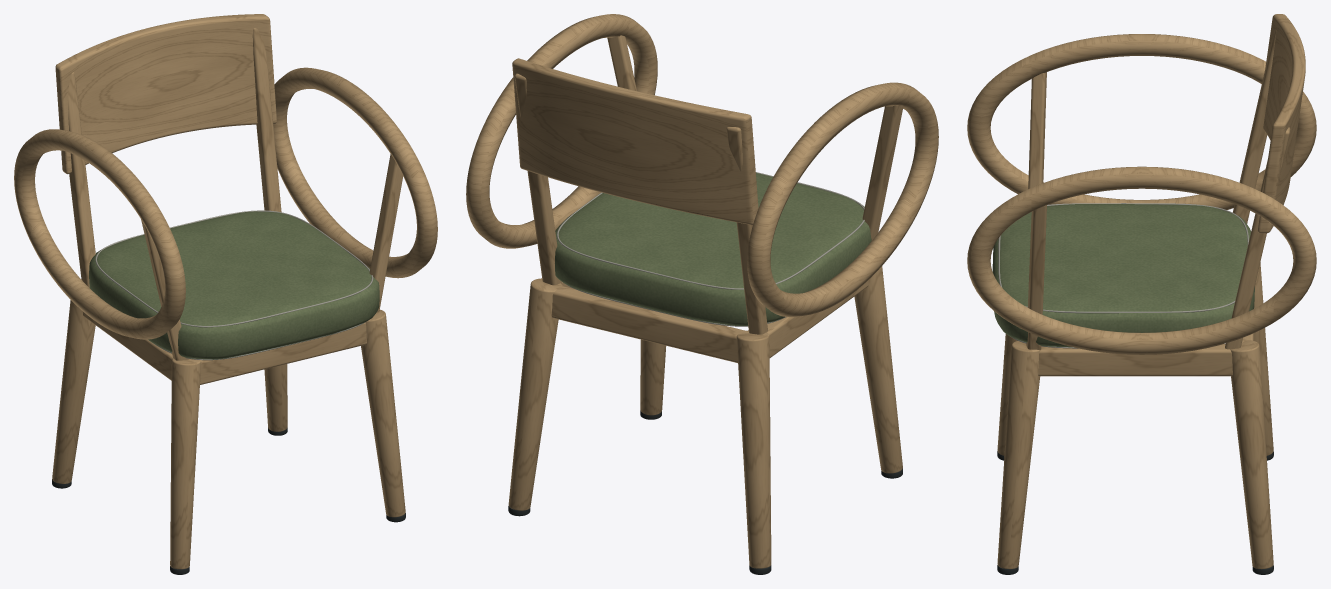
3 renders of one model, left to right at view 1: azimuth 30°, elevation 25°; view 2: azimuth 150°, elevation 25°; view 3: azimuth 270°, elevation 25°, orthographic. The views are drawn at different scales.
Parts seen in each view (by area): view 1: Moss | fitted dining pad, Ash | broad curved back, Ash | closed elliptical loop arm, Ash | closed elliptical loop arm.001, Frame | tapered leg, Frame | tapered leg.002, Frame | tapered leg.001, Frame | cross apron, Ash | rear arm and back bracket.001, Ash | rear arm and back bracket, Ash | front arm bracket.001, Frame | tapered leg.003 (+3 smaller); view 2: Moss | fitted dining pad, Ash | broad curved back, Ash | closed elliptical loop arm, Ash | closed elliptical loop arm.001, Frame | tapered leg.001, Frame | cross apron.001, Frame | tapered leg.003, Frame | tapered leg, Ash | rear arm and back bracket.001, Ash | front arm bracket, Ash | rear arm and back bracket, Frame | tapered leg.002 (+3 smaller); view 3: Moss | fitted dining pad, Ash | closed elliptical loop arm.001, Ash | closed elliptical loop arm, Frame | tapered leg.003, Frame | tapered leg.002, Ash | broad curved back, Frame | side apron.001, Ash | rear arm and back bracket, Ash | rear arm and back bracket.001, Ash | front arm bracket.001, Ash | front arm bracket, Frame | tapered leg.001 (+2 smaller).
Part boxes in pixels (<box>): Moss | fitted dining pad: <box>89,211,379,359</box>; Ash | broad curved back: <box>55,14,276,174</box>; Ash | closed elliptical loop arm: <box>14,129,185,339</box>; Ash | closed elliptical loop arm.001: <box>273,67,437,278</box>; Frame | tapered leg: <box>170,358,201,569</box>; Frame | tapered leg.002: <box>361,309,405,517</box>; Frame | tapered leg.001: <box>52,300,95,483</box>; Frame | cross apron: <box>200,322,366,384</box>; Ash | rear arm and back bracket.001: <box>252,28,281,212</box>; Ash | rear arm and back bracket: <box>68,72,95,287</box>; Ash | front arm bracket.001: <box>369,154,403,312</box>; Frame | tapered leg.003: <box>264,364,287,431</box>; Moss | fitted dining pad: <box>555,173,871,325</box>; Ash | broad curved back: <box>512,58,758,224</box>; Ash | closed elliptical loop arm: <box>747,82,938,317</box>; Ash | closed elliptical loop arm.001: <box>466,14,657,248</box>; Frame | tapered leg.001: <box>736,330,771,568</box>; Frame | cross apron.001: <box>551,284,748,362</box>; Frame | tapered leg.003: <box>508,278,562,510</box>; Frame | tapered leg: <box>854,266,902,473</box>; Ash | rear arm and back bracket.001: <box>514,73,562,285</box>; Ash | front arm bracket: <box>862,105,903,240</box>; Ash | rear arm and back bracket: <box>726,127,767,334</box>; Frame | tapered leg.002: <box>640,339,666,415</box>; Moss | fitted dining pad: <box>992,204,1254,347</box>; Ash | closed elliptical loop arm.001: <box>967,166,1316,354</box>; Ash | closed elliptical loop arm: <box>967,34,1316,209</box>; Frame | tapered leg.003: <box>1230,340,1273,569</box>; Frame | tapered leg.002: <box>997,341,1040,569</box>; Ash | broad curved back: <box>1258,14,1305,233</box>; Frame | side apron.001: <box>1038,344,1232,376</box>; Ash | rear arm and back bracket: <box>1233,29,1276,223</box>; Ash | rear arm and back bracket.001: <box>1225,127,1290,349</box>; Ash | front arm bracket.001: <box>1026,205,1046,350</box>; Ash | front arm bracket: <box>1028,72,1046,188</box>; Frame | tapered leg.001: <box>1253,262,1273,455</box>.
Bounding box in the file's own units: 0.634 × 0.9345 × 0.656.
Materials: 4 (2 with a texture image).
